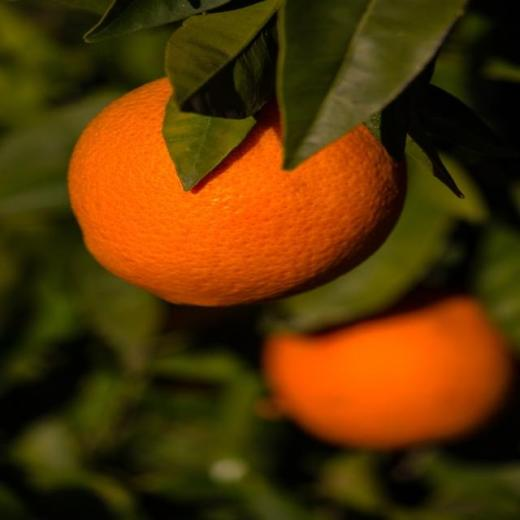Grape: (74, 72, 396, 303), (271, 295, 514, 439)
